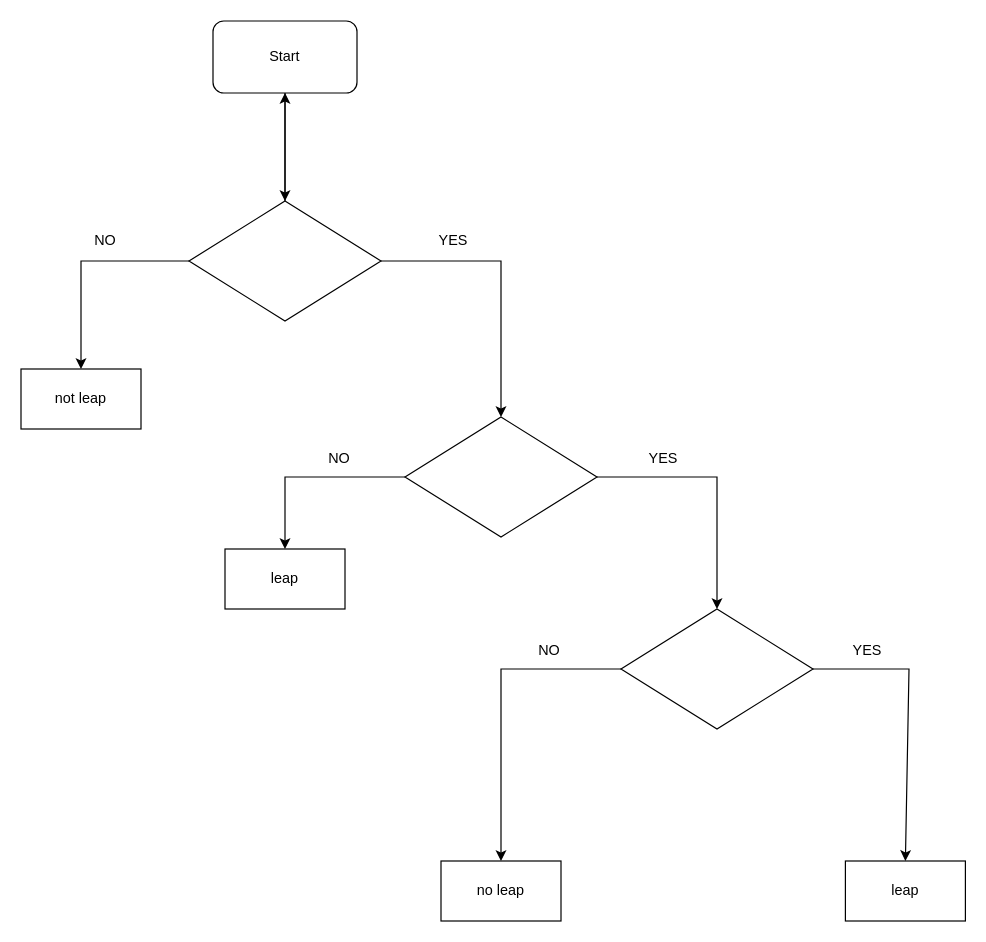
The diagram is 986 pixels wide and 942 high, and some of its shapes have lost their labels. Each missing label, with the box of its shape:
Divide perfectly by 100: (404, 416, 597, 537)
Divide perfectly by 4: (188, 200, 381, 321)
Divide perfectly by 400: (620, 608, 813, 729)
